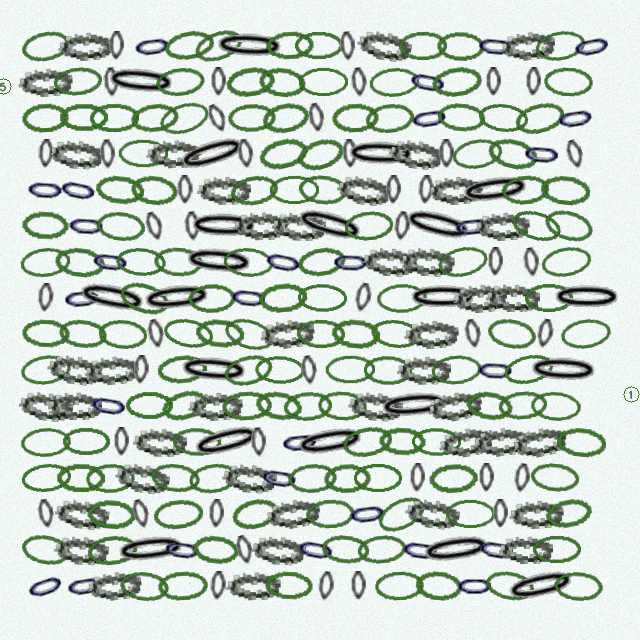chain: (174, 130, 251, 178), (291, 202, 368, 249), (400, 203, 476, 248), (189, 419, 265, 464), (503, 564, 579, 608), (74, 277, 150, 319), (293, 422, 368, 462), (419, 530, 494, 569), (458, 171, 533, 209), (114, 531, 188, 568), (373, 490, 429, 538), (140, 280, 214, 316), (104, 64, 178, 99), (182, 244, 256, 279), (377, 388, 451, 423), (177, 353, 251, 387), (191, 24, 246, 68), (510, 422, 569, 462), (156, 97, 212, 139), (508, 205, 564, 247), (116, 277, 172, 319), (221, 313, 277, 355), (213, 30, 286, 62), (527, 354, 600, 386), (541, 205, 597, 246), (294, 133, 348, 175), (158, 385, 212, 426), (426, 387, 484, 425), (437, 423, 495, 461), (512, 98, 567, 138), (345, 139, 417, 169), (188, 211, 260, 241), (221, 350, 275, 390), (264, 495, 322, 532), (485, 134, 540, 173), (435, 242, 490, 281), (501, 350, 556, 389), (356, 27, 413, 64), (256, 134, 310, 173), (407, 283, 479, 312), (551, 283, 623, 312), (229, 494, 282, 533), (114, 460, 171, 496), (483, 567, 537, 605), (450, 135, 505, 172), (161, 315, 216, 352), (19, 27, 72, 65), (162, 27, 216, 64), (533, 27, 587, 64), (539, 243, 593, 280), (485, 315, 539, 352), (340, 423, 394, 460), (19, 531, 73, 568), (259, 316, 316, 351), (46, 352, 103, 387), (472, 424, 529, 459), (404, 496, 461, 531), (86, 568, 143, 603), (500, 28, 556, 63), (260, 99, 312, 136), (543, 495, 595, 532), (228, 172, 281, 208), (187, 460, 240, 496), (388, 137, 444, 171), (336, 173, 392, 207), (452, 281, 508, 315), (84, 353, 140, 387), (18, 389, 74, 423), (54, 497, 110, 531), (22, 566, 69, 606), (296, 244, 348, 280), (253, 388, 305, 424), (430, 64, 483, 99), (559, 316, 612, 351), (19, 352, 72, 387), (464, 388, 515, 424), (224, 64, 276, 99), (154, 65, 207, 99), (19, 245, 72, 279), (53, 245, 106, 279), (369, 317, 422, 351), (129, 101, 181, 135), (364, 101, 416, 135), (477, 101, 529, 135), (539, 173, 591, 207), (57, 317, 109, 351), (555, 425, 607, 459), (20, 461, 72, 495), (149, 461, 201, 495), (152, 497, 204, 531), (86, 533, 138, 567), (118, 569, 170, 603), (58, 30, 113, 62), (18, 66, 73, 98), (49, 138, 104, 170), (428, 174, 483, 206), (475, 210, 530, 242), (404, 318, 459, 350), (188, 390, 243, 422), (348, 390, 403, 422), (222, 462, 277, 494), (509, 498, 564, 530), (54, 534, 109, 566), (251, 534, 306, 566), (257, 65, 308, 99), (94, 173, 145, 207), (129, 173, 180, 207), (95, 209, 146, 243), (297, 173, 349, 206), (343, 209, 395, 242), (156, 353, 208, 386), (430, 353, 482, 386), (356, 533, 408, 566), (146, 138, 201, 169), (233, 210, 288, 241), (362, 246, 417, 277), (400, 246, 455, 277), (226, 570, 281, 601), (191, 533, 241, 567), (52, 65, 103, 98), (436, 101, 487, 134), (500, 173, 551, 206), (257, 281, 308, 314), (194, 317, 245, 350), (330, 317, 381, 350), (497, 389, 548, 422), (529, 461, 580, 494), (320, 533, 371, 566), (368, 66, 420, 98), (222, 246, 274, 278), (97, 318, 149, 350), (530, 390, 582, 422), (20, 426, 72, 458), (414, 569, 464, 602), (115, 246, 166, 278), (282, 390, 333, 422), (287, 462, 338, 494), (56, 172, 101, 208), (197, 175, 251, 205), (272, 211, 326, 241), (261, 244, 306, 280), (397, 355, 451, 385), (133, 427, 187, 457), (428, 462, 478, 494), (86, 498, 136, 530), (553, 570, 603, 602), (570, 28, 614, 64), (406, 64, 450, 100), (153, 246, 204, 277), (221, 390, 272, 421), (305, 498, 356, 529), (157, 570, 208, 601), (374, 570, 425, 601), (486, 283, 540, 312), (48, 391, 102, 420), (499, 535, 553, 564), (376, 283, 428, 313), (254, 355, 306, 385), (265, 30, 315, 61), (543, 66, 593, 97), (21, 318, 71, 349), (317, 390, 367, 421), (264, 570, 314, 601), (87, 388, 131, 423), (294, 532, 338, 567), (475, 532, 519, 567), (63, 568, 107, 603), (297, 283, 348, 313), (85, 463, 136, 493), (21, 102, 70, 133), (331, 102, 380, 133), (21, 210, 70, 241), (378, 426, 427, 457), (436, 31, 486, 61), (227, 103, 277, 133), (187, 283, 237, 313), (172, 427, 222, 457), (411, 427, 461, 457), (445, 499, 496, 528), (363, 355, 412, 385), (323, 463, 372, 493), (131, 29, 174, 63), (408, 101, 451, 135), (554, 101, 597, 135), (258, 461, 301, 495), (399, 533, 442, 567), (298, 67, 348, 96), (89, 103, 139, 132), (118, 139, 168, 168), (269, 175, 319, 204), (524, 283, 574, 312), (296, 319, 346, 348), (325, 355, 375, 384), (294, 31, 343, 60), (398, 31, 447, 60), (59, 103, 108, 132), (125, 391, 174, 420), (62, 427, 111, 456), (56, 463, 105, 492), (353, 463, 402, 492), (532, 535, 581, 564), (89, 245, 132, 278), (346, 497, 389, 530), (161, 533, 204, 566), (228, 281, 270, 314), (475, 30, 517, 62), (521, 138, 563, 170), (452, 210, 494, 242), (61, 282, 103, 314), (279, 426, 321, 458), (25, 174, 66, 205), (66, 210, 107, 241), (475, 355, 516, 385), (331, 247, 371, 277), (455, 571, 495, 600), (205, 102, 230, 134), (143, 210, 166, 242), (564, 138, 586, 170), (130, 498, 152, 529), (234, 534, 255, 565), (353, 282, 373, 313), (146, 318, 166, 349), (463, 318, 483, 349), (535, 318, 555, 349), (36, 498, 56, 529), (307, 102, 326, 133), (236, 138, 255, 169), (522, 247, 541, 277), (350, 67, 368, 97), (393, 211, 411, 241), (300, 355, 318, 385), (513, 463, 531, 493), (317, 571, 335, 601), (339, 31, 356, 61), (103, 67, 120, 97), (99, 139, 116, 169), (184, 211, 201, 241), (250, 427, 267, 457), (37, 283, 54, 312), (38, 139, 54, 168), (342, 139, 358, 168), (177, 175, 193, 204), (418, 175, 434, 204), (133, 355, 149, 384), (210, 571, 226, 600), (109, 31, 124, 60), (211, 67, 226, 96), (486, 67, 501, 96), (526, 67, 541, 96), (439, 139, 454, 168), (386, 175, 401, 204), (488, 247, 503, 276), (114, 427, 129, 456), (410, 463, 425, 492), (479, 463, 494, 492), (209, 499, 224, 528), (493, 499, 508, 528), (351, 571, 366, 600)
noise: (621, 384, 640, 404), (0, 76, 13, 96)
